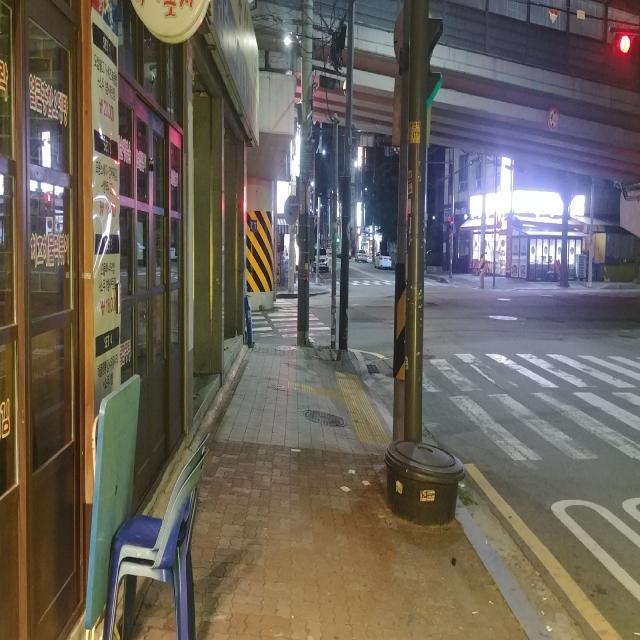횡단보도: (431, 355, 638, 448), (245, 299, 331, 343)
